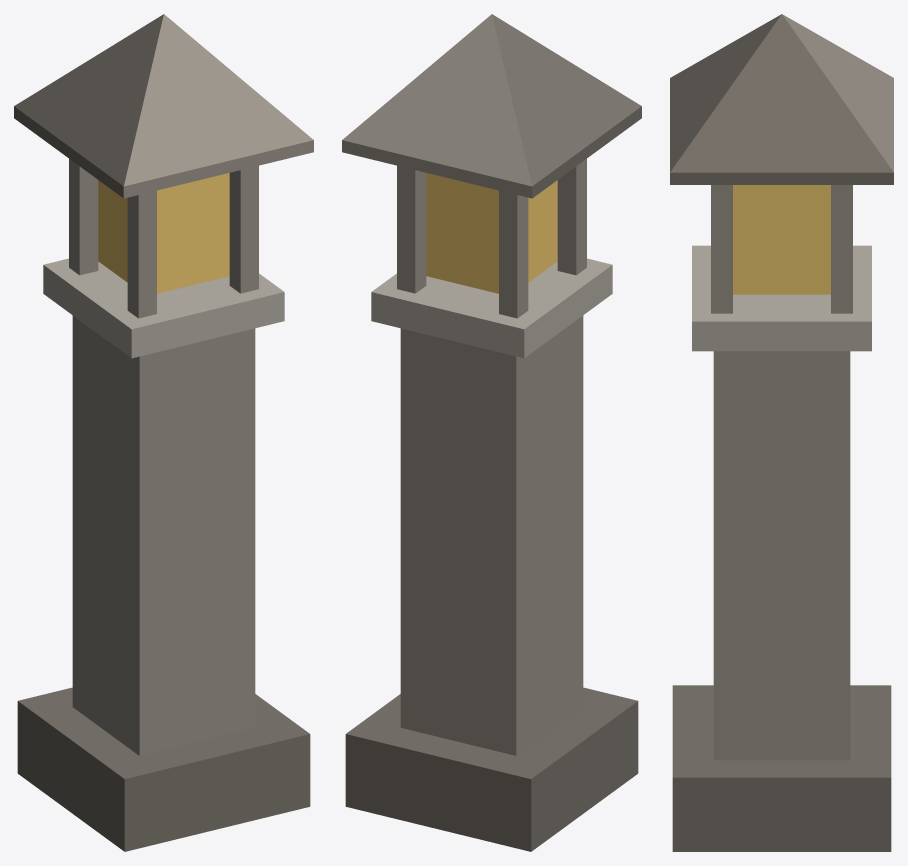
Rendered from lantern_stone.glb.
3 renders of one model, left to right at view 1: azimuth 30°, elevation 25°; view 2: azimuth 150°, elevation 25°; view 3: azimuth 270°, elevation 25°, orthographic. The views are drawn at different scales.
Parts seen in each view (by area): view 1: road_lantern_stone; view 2: road_lantern_stone; view 3: road_lantern_stone.
Part boxes in pixels (<box>): road_lantern_stone: <box>14,14,313,851</box>; road_lantern_stone: <box>342,14,641,851</box>; road_lantern_stone: <box>670,14,893,851</box>.
Bounding box in the file's own units: 0.8202 × 3.2 × 0.8202.
